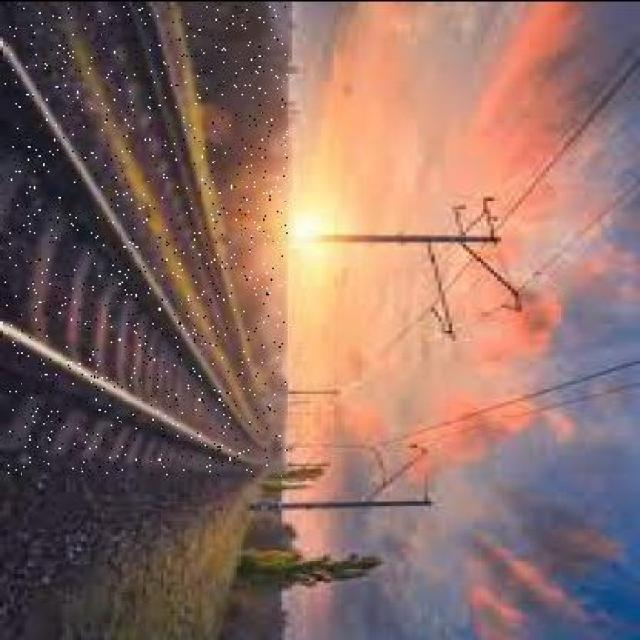rail: (5, 5, 287, 475)
